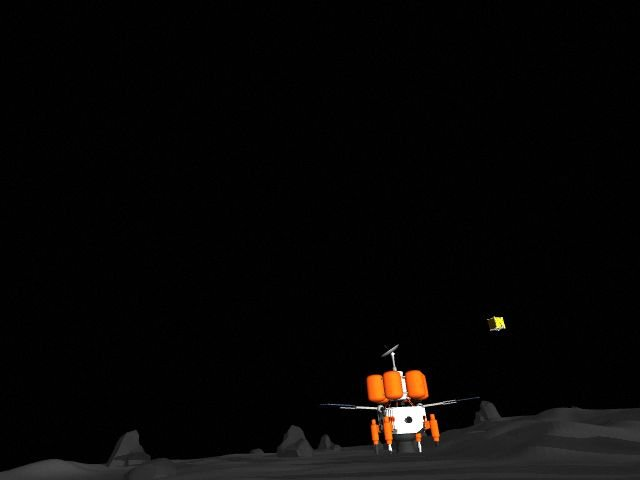homebase: (320, 342, 482, 457)
